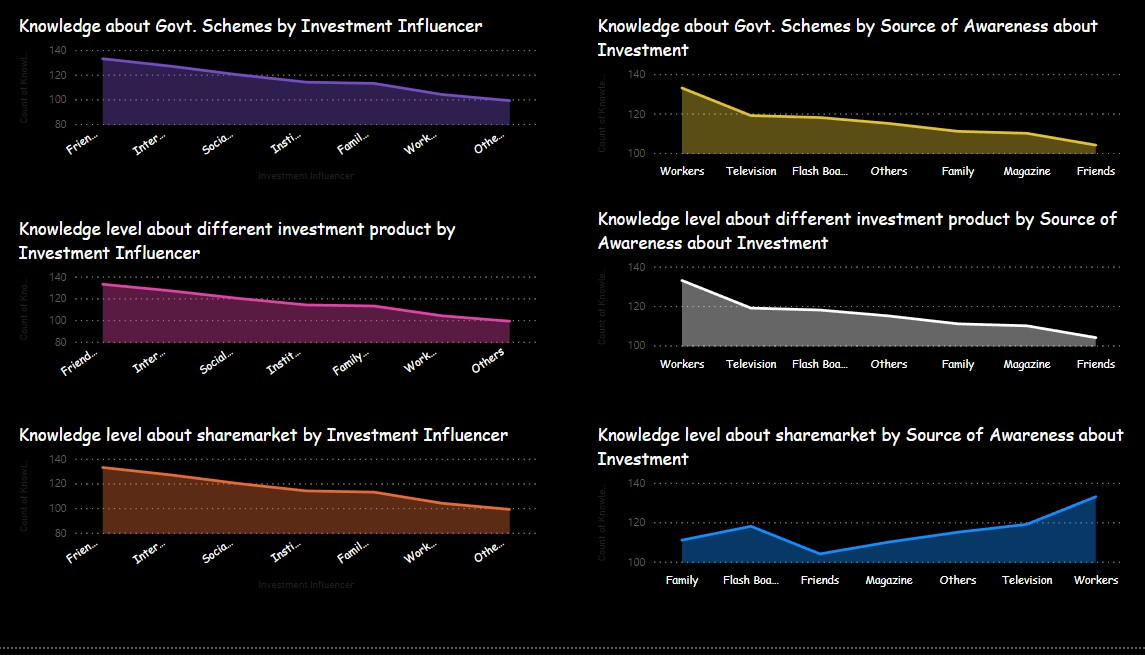

The dashboard page shown, as its layout file describes it:
{"tool":"powerbi","page":{"name":"Knowlegde","canvas":[1280,720],"ordinal":3},"visuals":[{"type":"stackedAreaChart","title":"Knowledge about Govt. Schemes by Investment Influencer","fields":{"Category":["Sheet1.Investment Influencer"],"Y":["CountNonNull(Sheet1.Knowledge about Govt. Schemes)"]},"box":[27.4,24.7,579.1,189.4],"z":0},{"type":"stackedAreaChart","title":"Knowledge level about different investment product by Investment Influencer","fields":{"Category":["Sheet1.Investment Influencer"],"Y":["CountNonNull(Sheet1.Knowledge level about different investment product)"]},"box":[27.4,247,579.1,189.4],"z":1000},{"type":"stackedAreaChart","title":"Knowledge level about sharemarket by Investment Influencer","fields":{"Category":["Sheet1.Investment Influencer"],"Y":["CountNonNull(Sheet1.Knowledge level about sharemarket)"]},"box":[27.4,473.4,579.1,189.4],"z":2000},{"type":"stackedAreaChart","title":"Knowledge about Govt. Schemes by Source of Awareness about Investment","fields":{"Category":["Sheet1.Source of Awareness about Investment"],"Y":["CountNonNull(Sheet1.Knowledge about Govt. Schemes)"]},"box":[662.8,24.7,592.8,189.4],"z":3000},{"type":"stackedAreaChart","title":"Knowledge level about different investment product by Source of Awareness about Investment","fields":{"Category":["Sheet1.Source of Awareness about Investment"],"Y":["CountNonNull(Sheet1.Knowledge level about different investment product)"]},"box":[662.8,236,592.8,189.4],"z":4000},{"type":"stackedAreaChart","title":"Knowledge level about sharemarket by Source of Awareness about Investment","fields":{"Category":["Sheet1.Source of Awareness about Investment"],"Y":["CountNonNull(Sheet1.Knowledge level about sharemarket)"]},"box":[662.8,473.4,592.8,189.4],"z":5000}]}

Visuals, with their boxes in screenshot pixels (x1, y1, x2, y2), scaled from the page's 1280x720 canvas onto the 1145x655 screenshot:
"Knowledge about Govt. Schemes by Investment Influencer" stackedAreaChart: <box>25,22,543,195</box>
"Knowledge level about different investment product by Investment Influencer" stackedAreaChart: <box>25,225,543,397</box>
"Knowledge level about sharemarket by Investment Influencer" stackedAreaChart: <box>25,431,543,603</box>
"Knowledge about Govt. Schemes by Source of Awareness about Investment" stackedAreaChart: <box>593,22,1123,195</box>
"Knowledge level about different investment product by Source of Awareness about Investment" stackedAreaChart: <box>593,215,1123,387</box>
"Knowledge level about sharemarket by Source of Awareness about Investment" stackedAreaChart: <box>593,431,1123,603</box>
